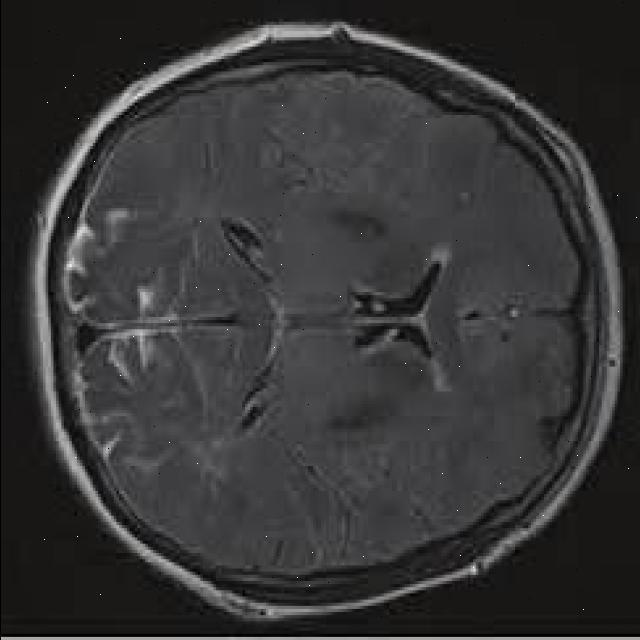No_Tumor: (29, 23, 622, 621)
